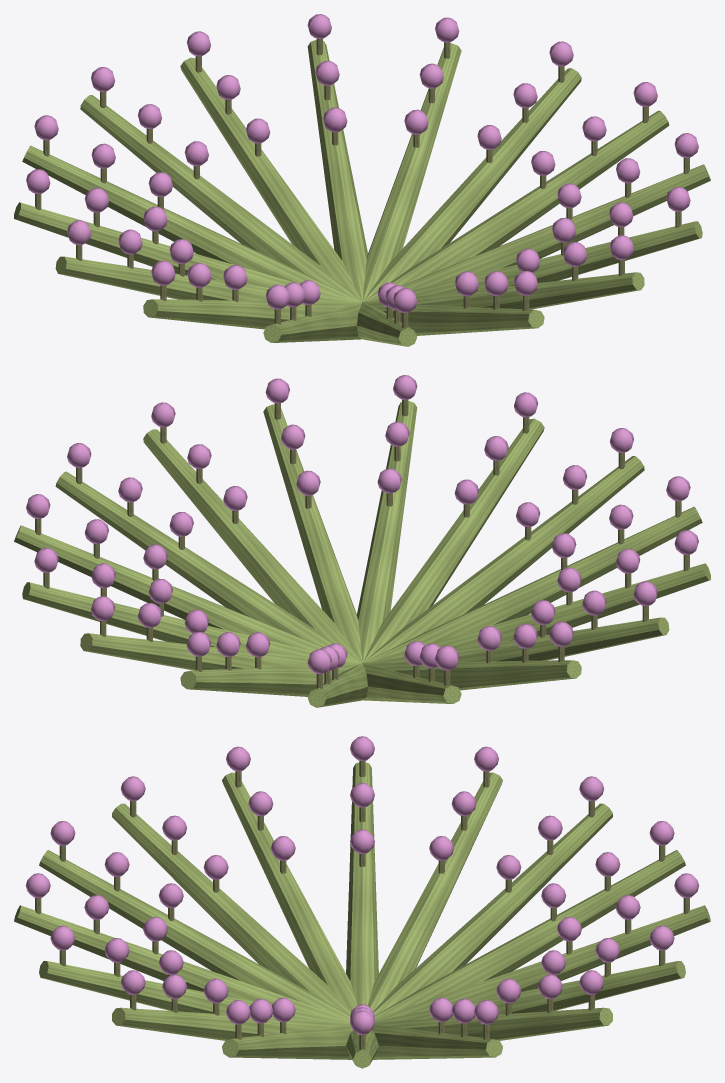
File: sundew_patch_swamp_and_mangrove_22669.glb
3 renders of one model, top to bottom at view 1: azimuth 30°, elevation 25°; view 2: azimuth 150°, elevation 25°; view 3: azimuth 270°, elevation 25°, orthographic.
Parts seen in each view (by area): view 1: sundew-patch; view 2: sundew-patch; view 3: sundew-patch.
Boxes of the visible parts, x1,y1,x2,y2 form: sundew-patch: (14, 14, 710, 346); sundew-patch: (14, 375, 710, 707); sundew-patch: (14, 736, 710, 1068).
Size of the model in its own units: 0.4445 by 0.1287 by 0.4445.
3 materials, 2 textured.
